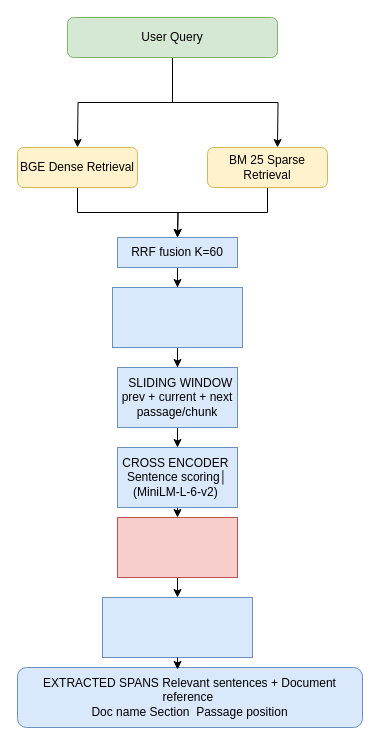
This 380x751 diagram has some shape labels left out. The centre of each missing label's shape, as x and y in pixels:
"INNER DECAY Sentence filtering score drop threshold" goes at pixel 177 547.
"OUTER DECAY Adaptive k selection score drop threshold" goes at pixel 177 317.
"RANK BY CURRENT PASSAGE CE SCORE" goes at pixel 177 627.
